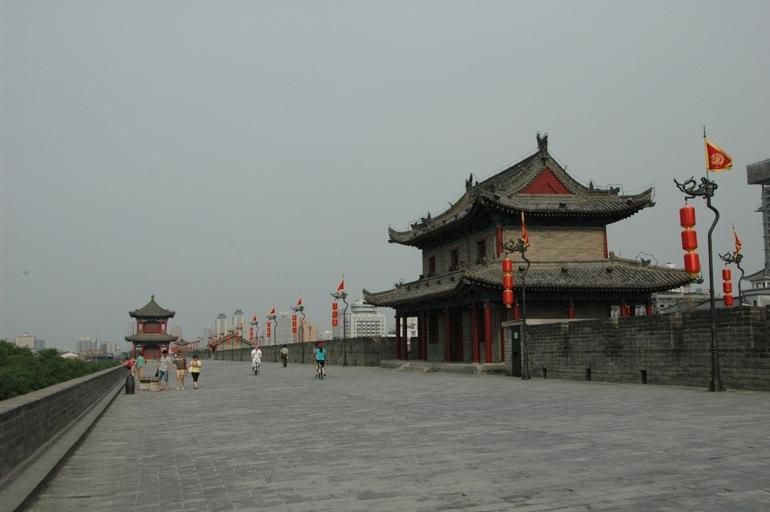non-vehicle: (315, 362, 325, 379), (252, 354, 258, 374)
